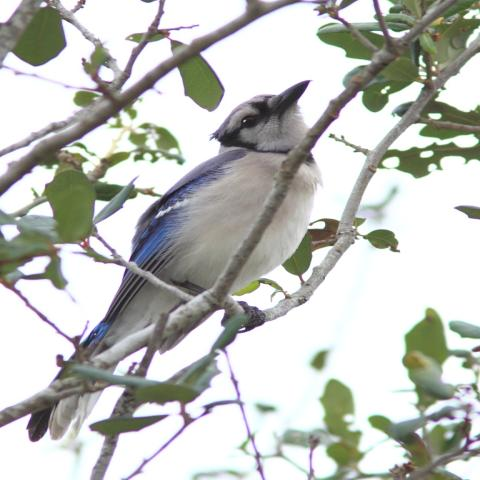bird: (25, 78, 323, 442)
